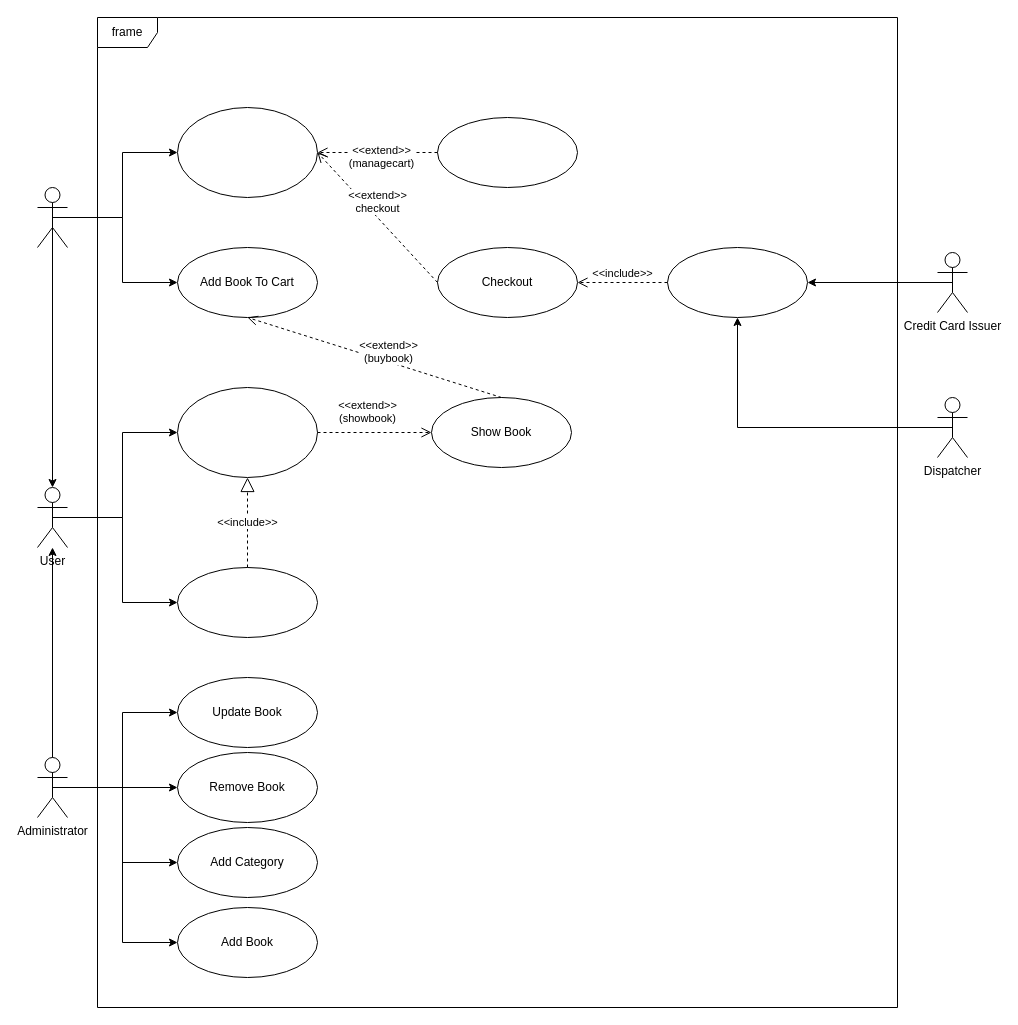
This 1018x1025 diagram has some shape labels left out. The shapes that lost their labels are listed below. From the top down, each one's centre as x and y in pixels, then its label:
point (247, 152): Display Cart _______________ extensions points manageCart checkout
point (507, 152): Manage Cart
point (52, 217): Costumer
point (737, 282): Payment By Card
point (247, 432): Browse Books _____________ extension points showbook
point (247, 602): Find Books
